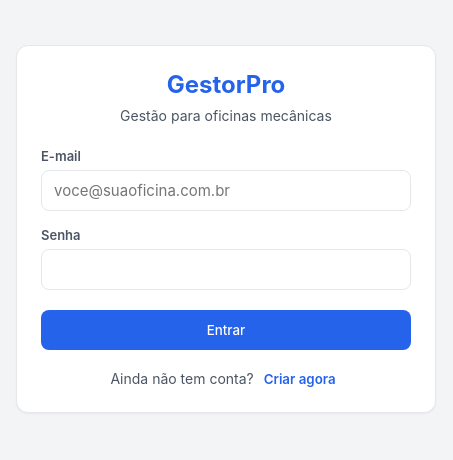
Test: Login › mostra a mensagem do servidor quando as credenciais estão erradas
Step 1. Type "a@b.com" into the field labelled "E-mail" → point(226, 190), box [41,170,411,211]
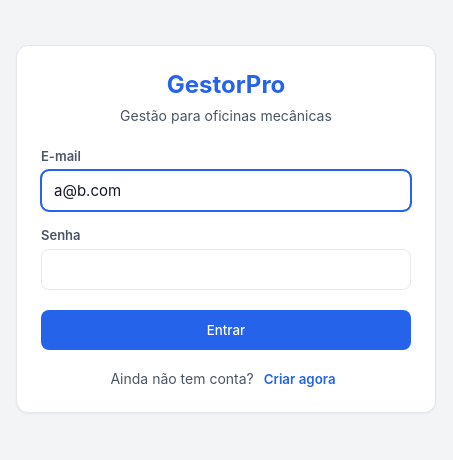
Step 2. Type "senhaerrada" into the password field labelled "Senha" → point(226, 270), box [41,249,411,290]
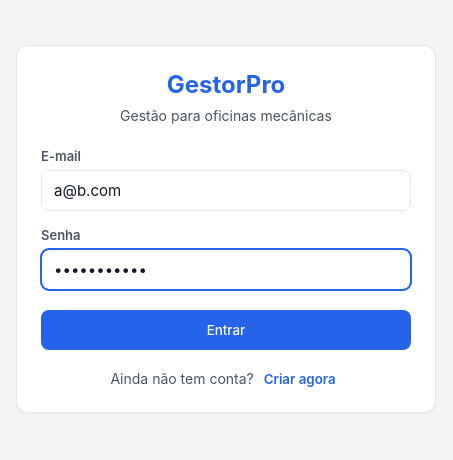
Step 3. Click the button "Entrar" → point(226, 330), box [41,310,411,350]
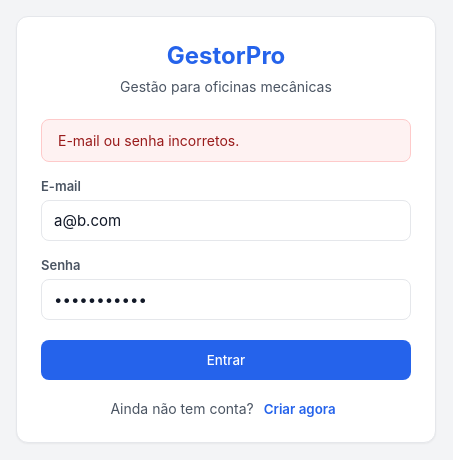
Expected: the text "E-mail ou senha incorretos." is shown, [41,118,411,162]
